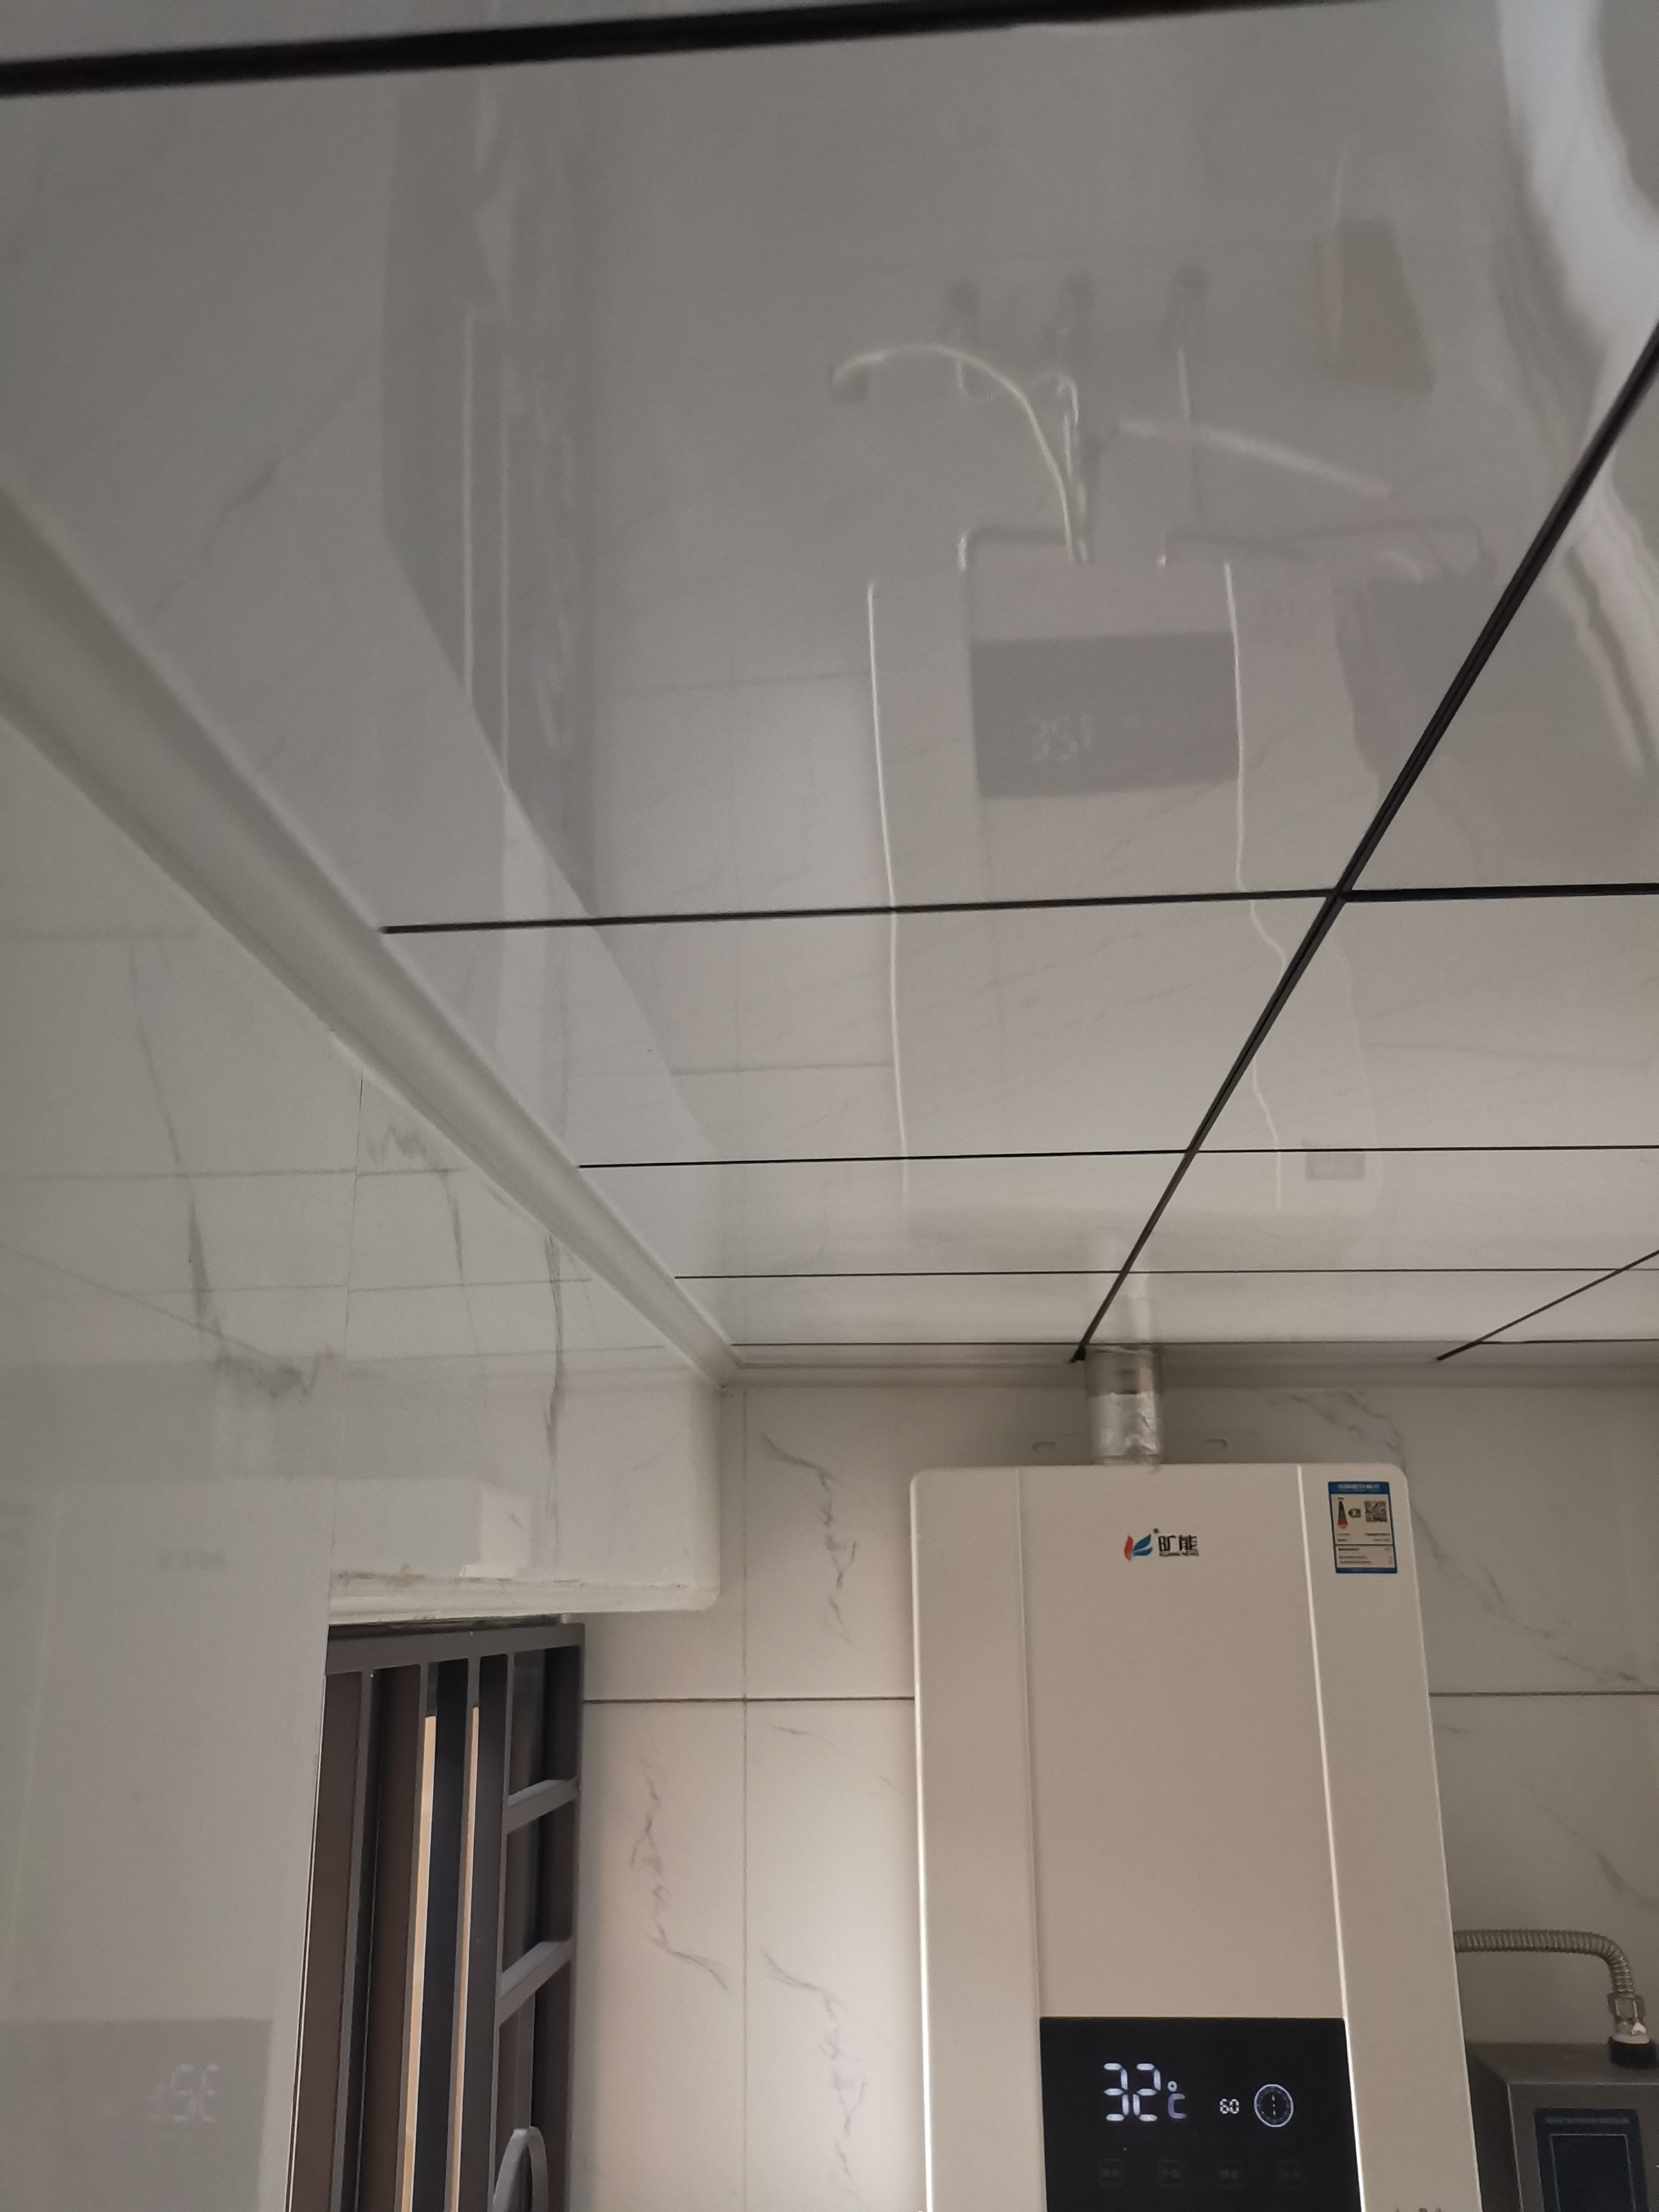loudou: (1112, 1524, 1227, 1578)
